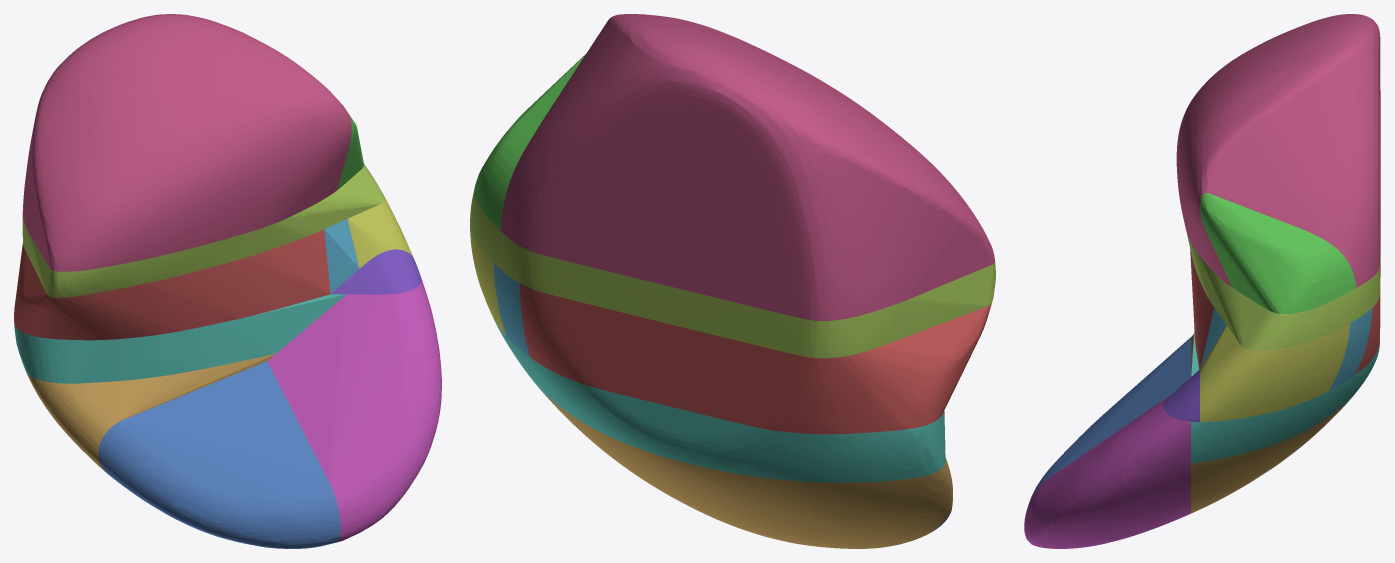
The model's file is hulls.glb.
3 views of the same model, side by side, from view 1: azimuth 30°, elevation 25°; view 2: azimuth 150°, elevation 25°; view 3: azimuth 270°, elevation 25° (orthographic). The views are drawn at different scales.
Bounding box in the file's own units: 0.9112 × 1.05 × 0.693.
